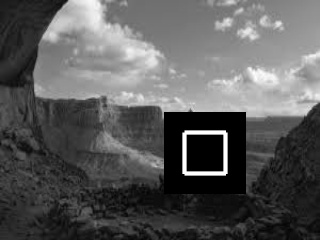square: (164, 112, 246, 193)
